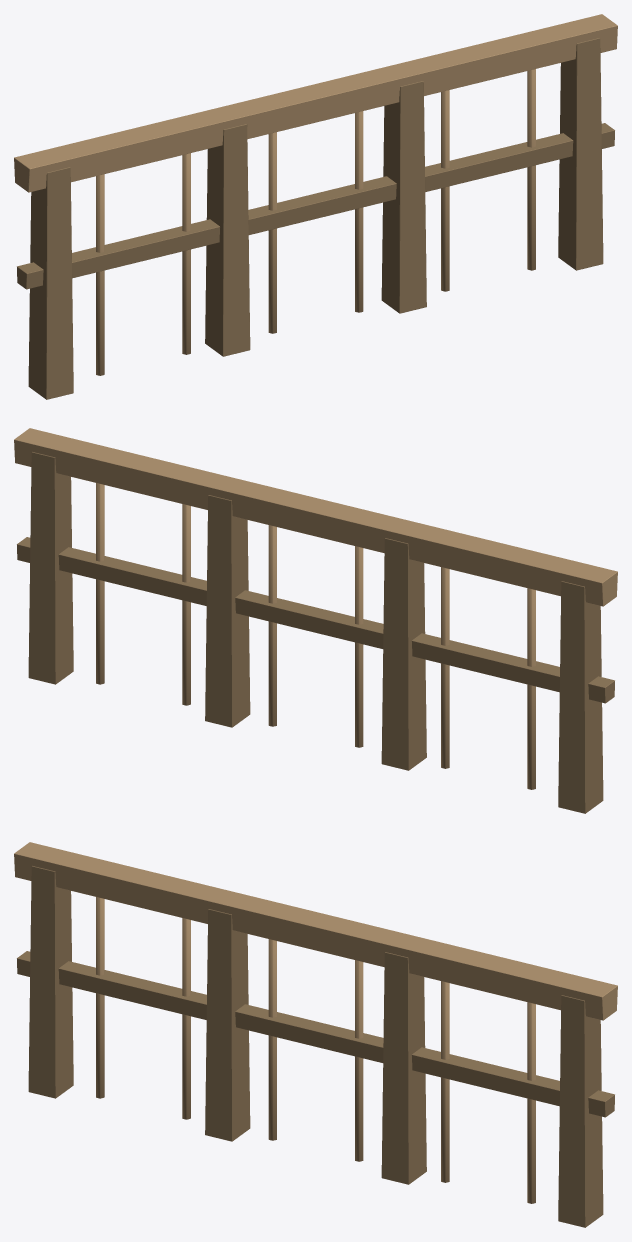
File: BD_railing.fbx
3 renders of one model, top to bottom at view 1: azimuth 30°, elevation 25°; view 2: azimuth 150°, elevation 25°; view 3: azimuth 330°, elevation 25°, orthographic.
Parts seen in each view (by area): view 1: BD_railing; view 2: BD_railing; view 3: BD_railing.
Part boxes in pixels (x1=…): BD_railing: x1=14, y1=14, x2=617, y2=399; BD_railing: x1=14, y1=428, x2=617, y2=813; BD_railing: x1=14, y1=842, x2=617, y2=1227.
Size of the model in its own units: 3 by 1.14 by 0.16.
